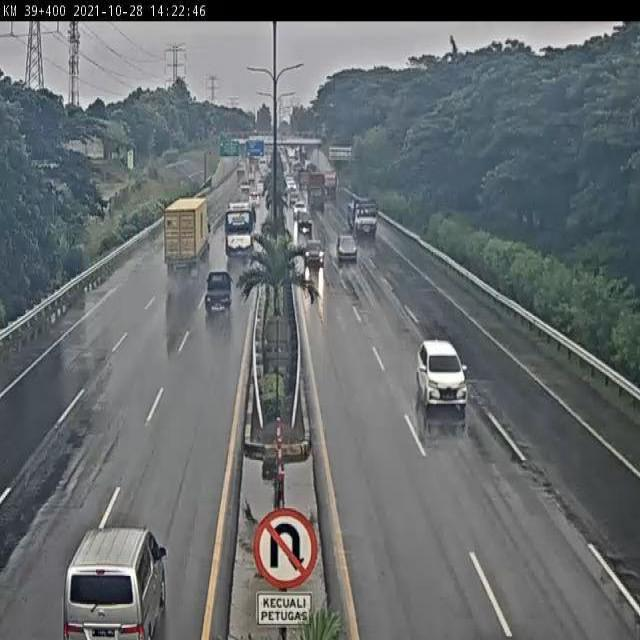car: (203, 268, 233, 309)
truck: (164, 195, 210, 271), (224, 199, 258, 255)
